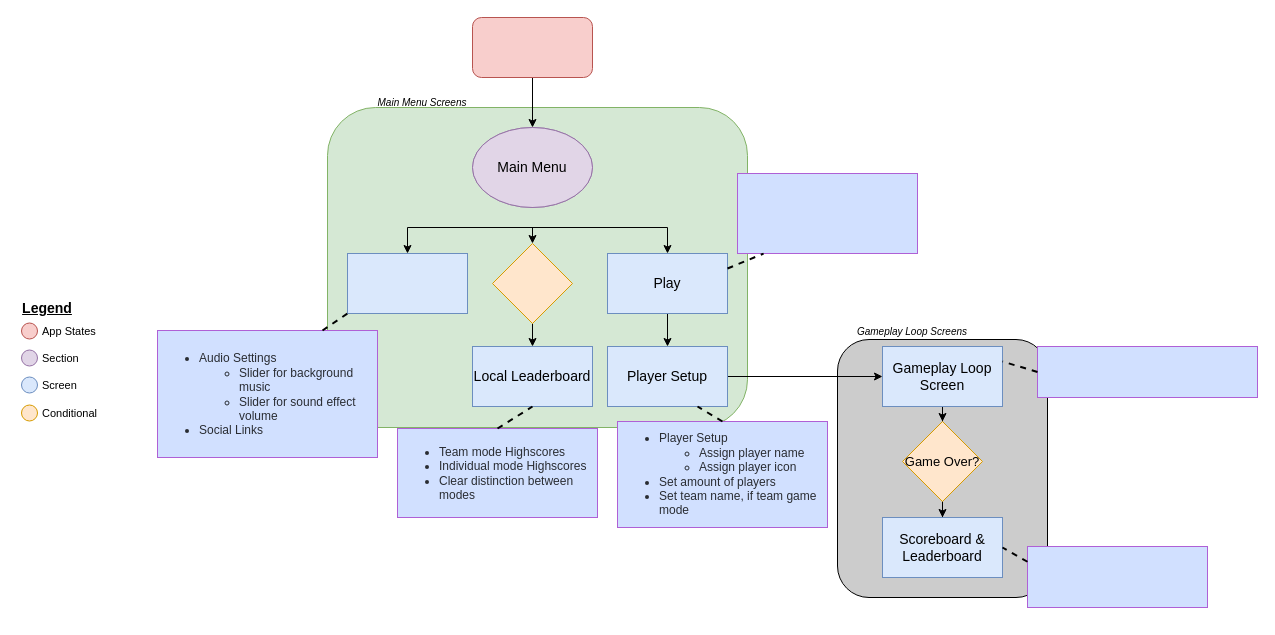
Image size: 1275x635. Some labels were removed from this diagram. The shapes that lost their labels are listed below. From the top down, each one's centre as x and y in pixels, then its label:
point 532,47: Start Application
point 827,213: Choose Game Mode Objective/goal is state clearly
point 407,283: Settings
point 532,283: Completed a Session?
point 1147,372: Display all items with details Display gameplay instructions
point 1117,577: Win/lose state Scoreboard with details Return to menu button Play again button
